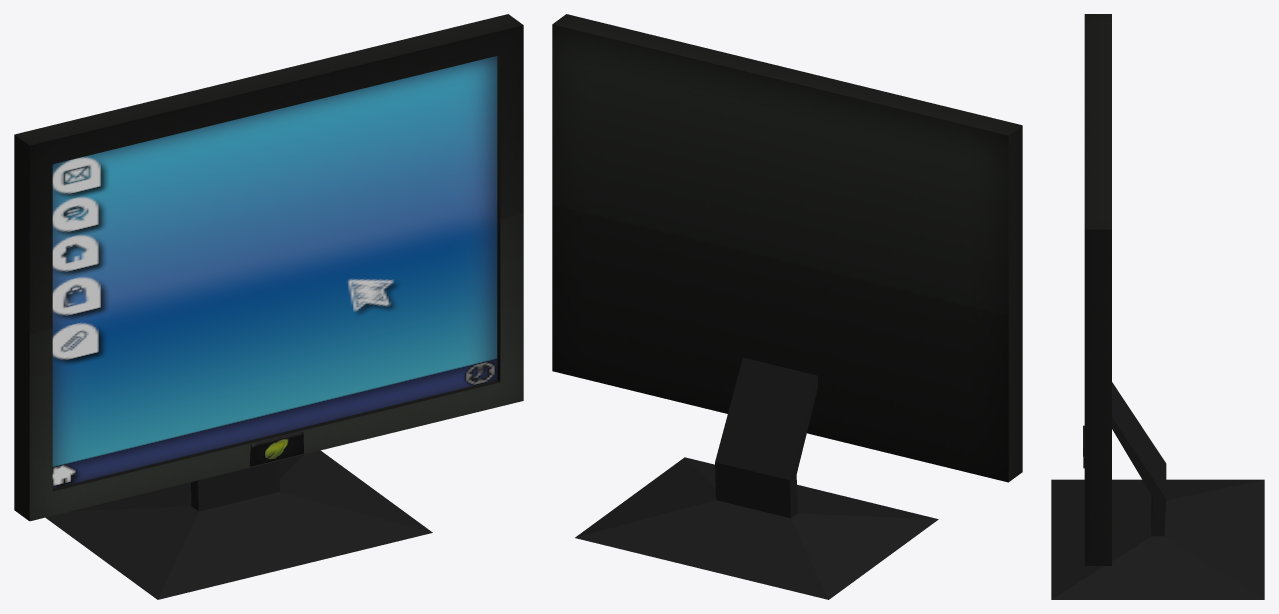
The model's file is Monitor.FBX.
The picture shows the model from 3 angles, left to right: view 1: azimuth 30°, elevation 25°; view 2: azimuth 150°, elevation 25°; view 3: azimuth 270°, elevation 25°; orthographic projection. The views are drawn at different scales.
Visible parts, largest first — view 1: Monitor; view 2: Monitor; view 3: Monitor.
Boxes of the visible parts, bbox=[...] form: Monitor: bbox=[14, 14, 523, 599]; Monitor: bbox=[552, 14, 1022, 599]; Monitor: bbox=[1051, 14, 1264, 599].
Bounding box in the file's own units: 115 × 104 × 47.96.
